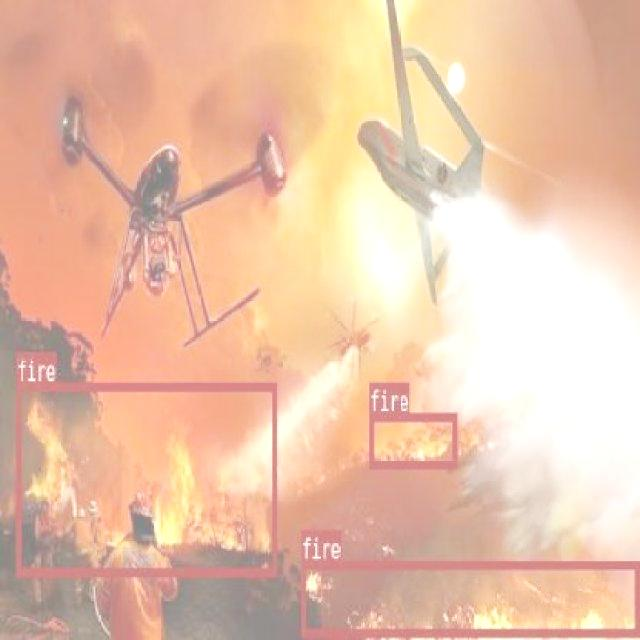fire: (15, 382, 276, 576), (300, 558, 640, 636), (368, 411, 456, 467)
